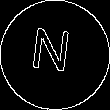N_S: (32, 28, 78, 82)
